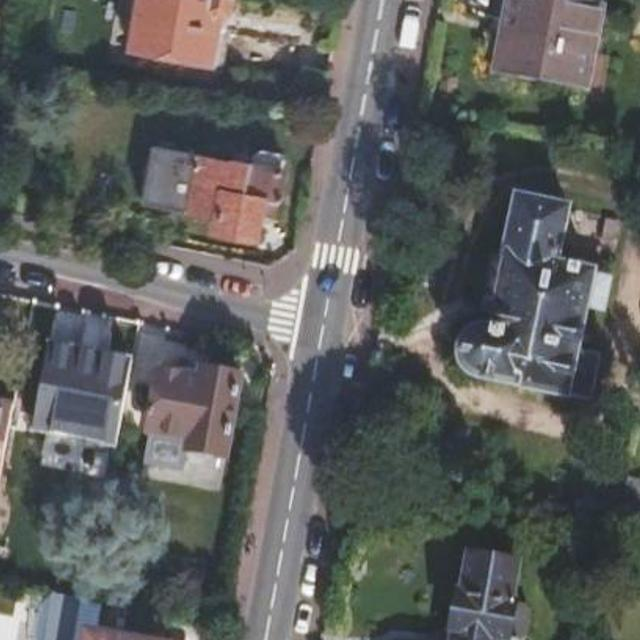passage_pieton: (313, 242, 370, 273), (276, 283, 300, 342)
